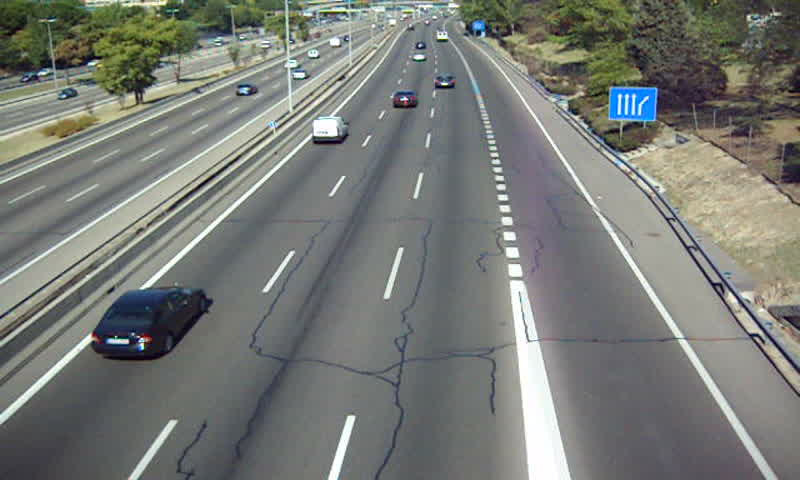car: (90, 285, 206, 359), (392, 89, 420, 109), (433, 73, 455, 90)
van: (311, 117, 350, 144)
